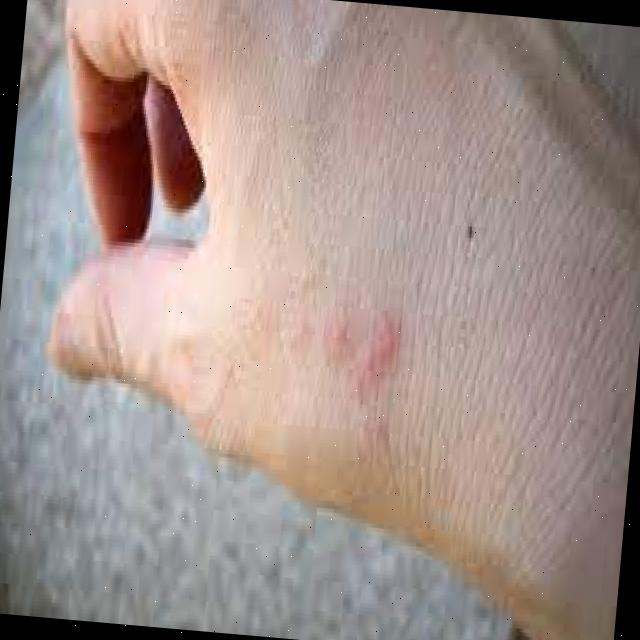kan emici bocekler: (320, 300, 415, 450)
